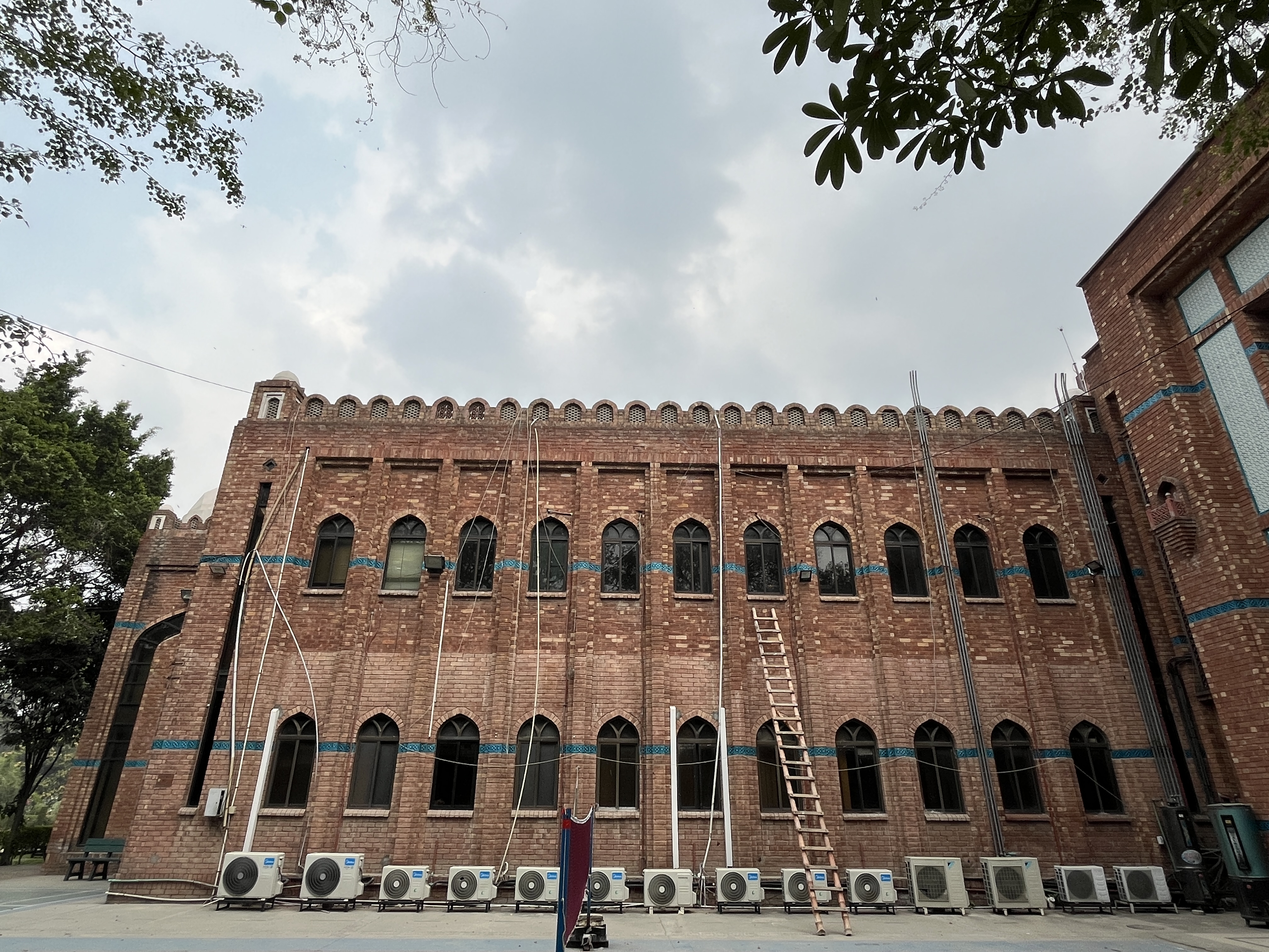Block B: (48, 348, 1096, 902)
